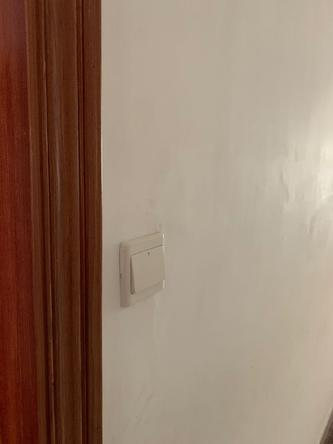switch: (127, 240, 167, 295)
